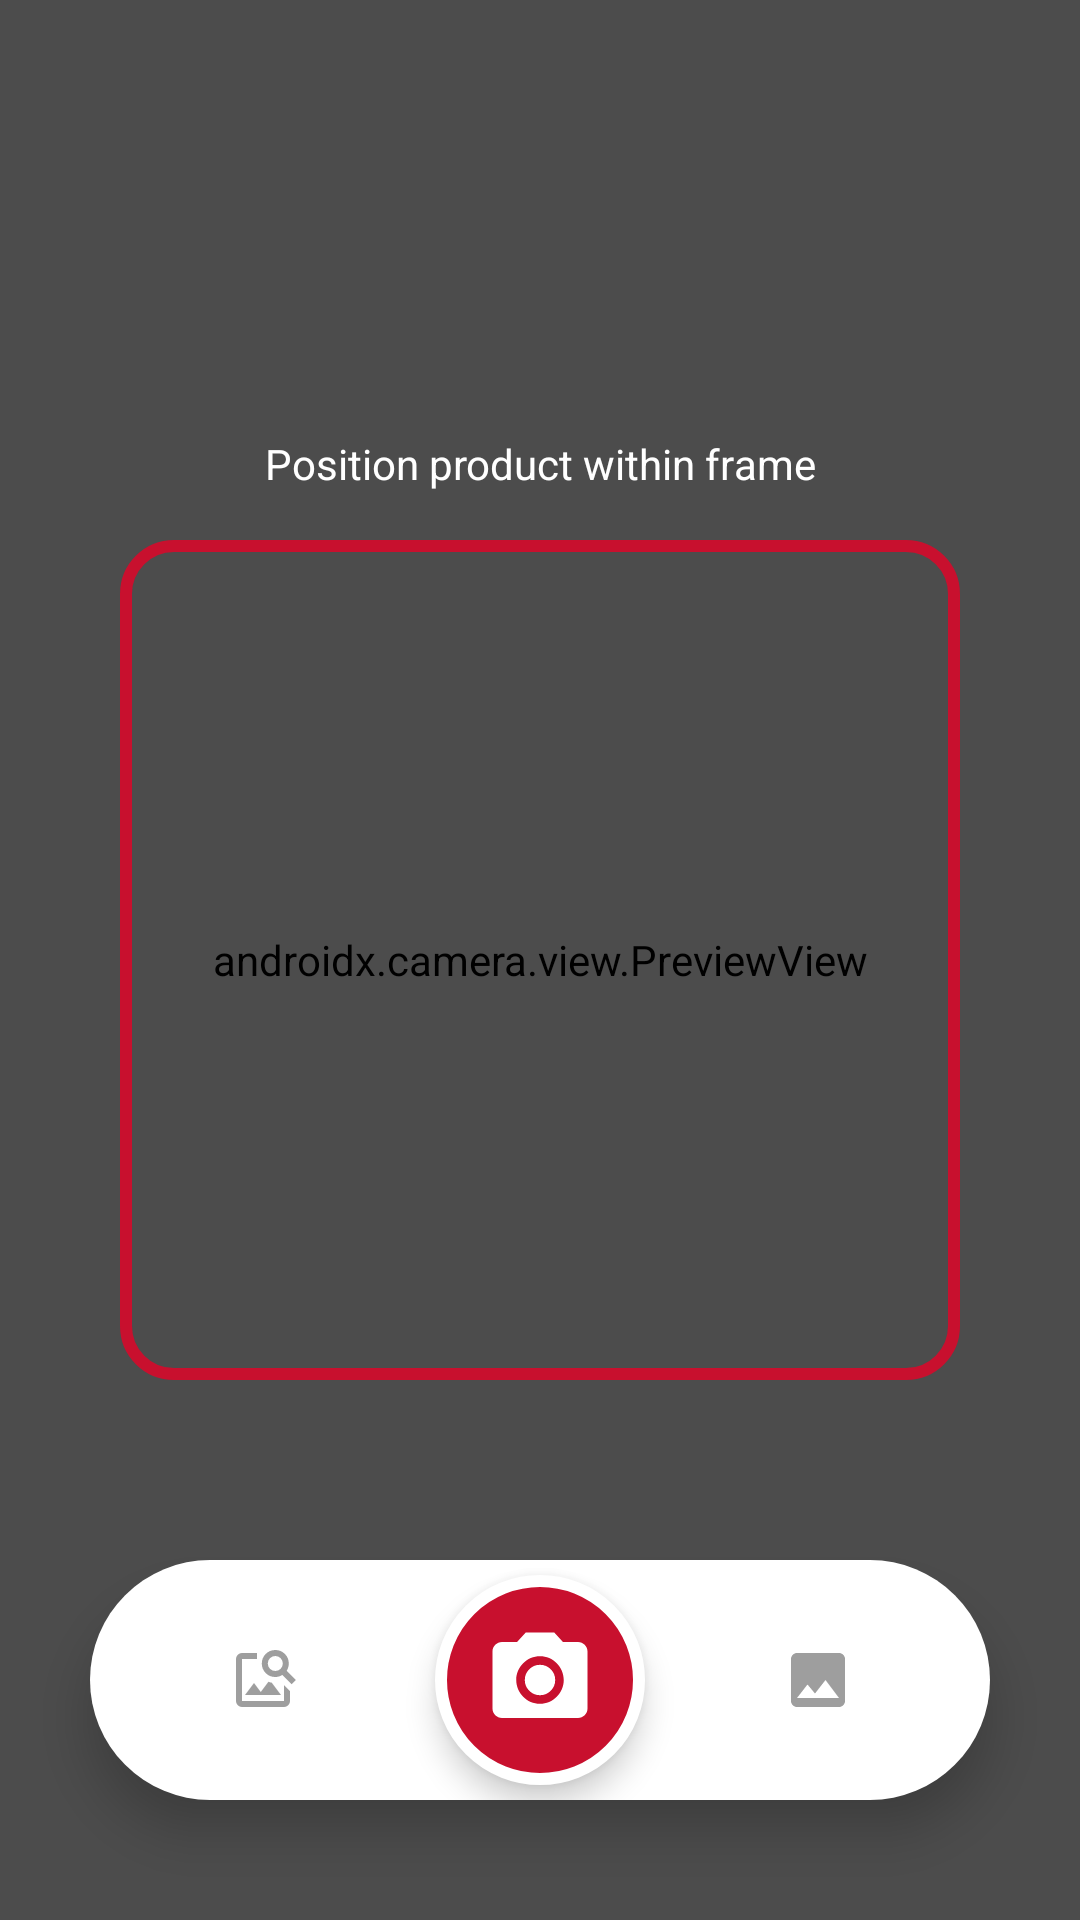

Screen size 1080px×1920px. Icon name, then its box in pixels as {"x1": x1, "y1": y1, "x2": x2, "y2": y2}:
gallery: {"x1": 791, "y1": 1653, "x2": 845, "y2": 1707}
search: {"x1": 236, "y1": 1650, "x2": 296, "y2": 1707}
